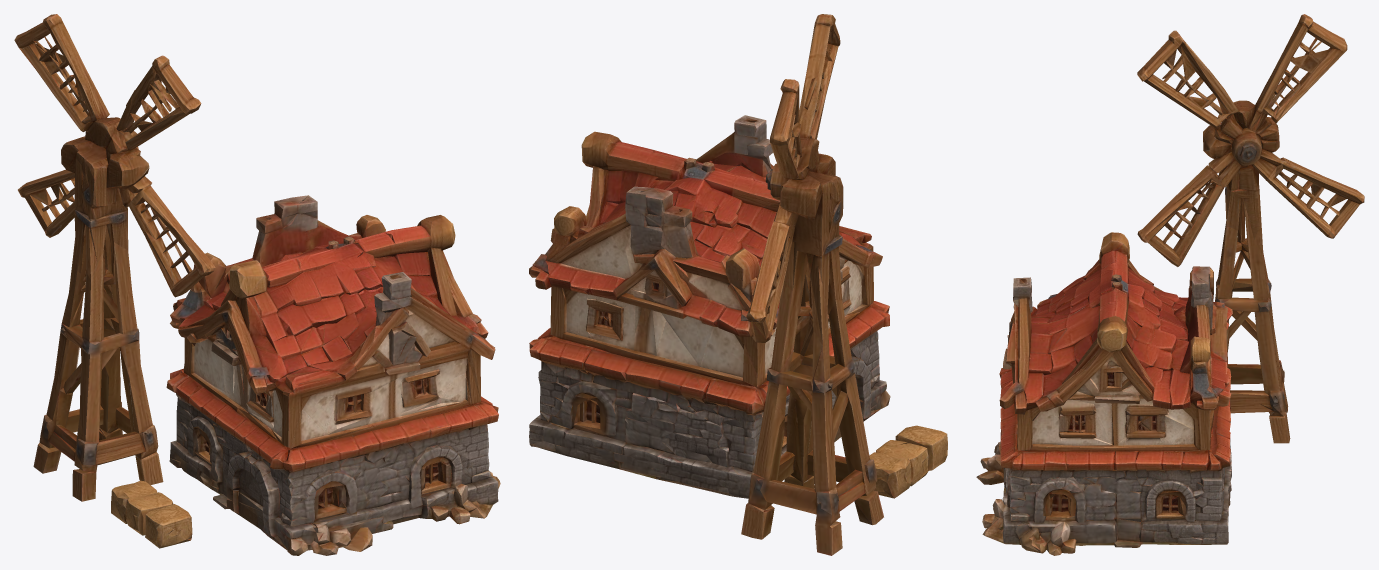
File: farm2.glb
The picture shows the model from 3 angles, left to right: view 1: azimuth 30°, elevation 25°; view 2: azimuth 150°, elevation 25°; view 3: azimuth 270°, elevation 25°; orthographic projection. The views are drawn at different scales.
Visible parts, largest first — view 1: Mesh_0; view 2: Mesh_0; view 3: Mesh_0.
Boxes of the visible parts, bbox=[...] form: Mesh_0: bbox=[14, 14, 500, 555]; Mesh_0: bbox=[529, 14, 947, 555]; Mesh_0: bbox=[976, 14, 1364, 555].
Bounding box in the file's own units: 1.52 × 1.9 × 1.66.
1 material, 1 textured.
